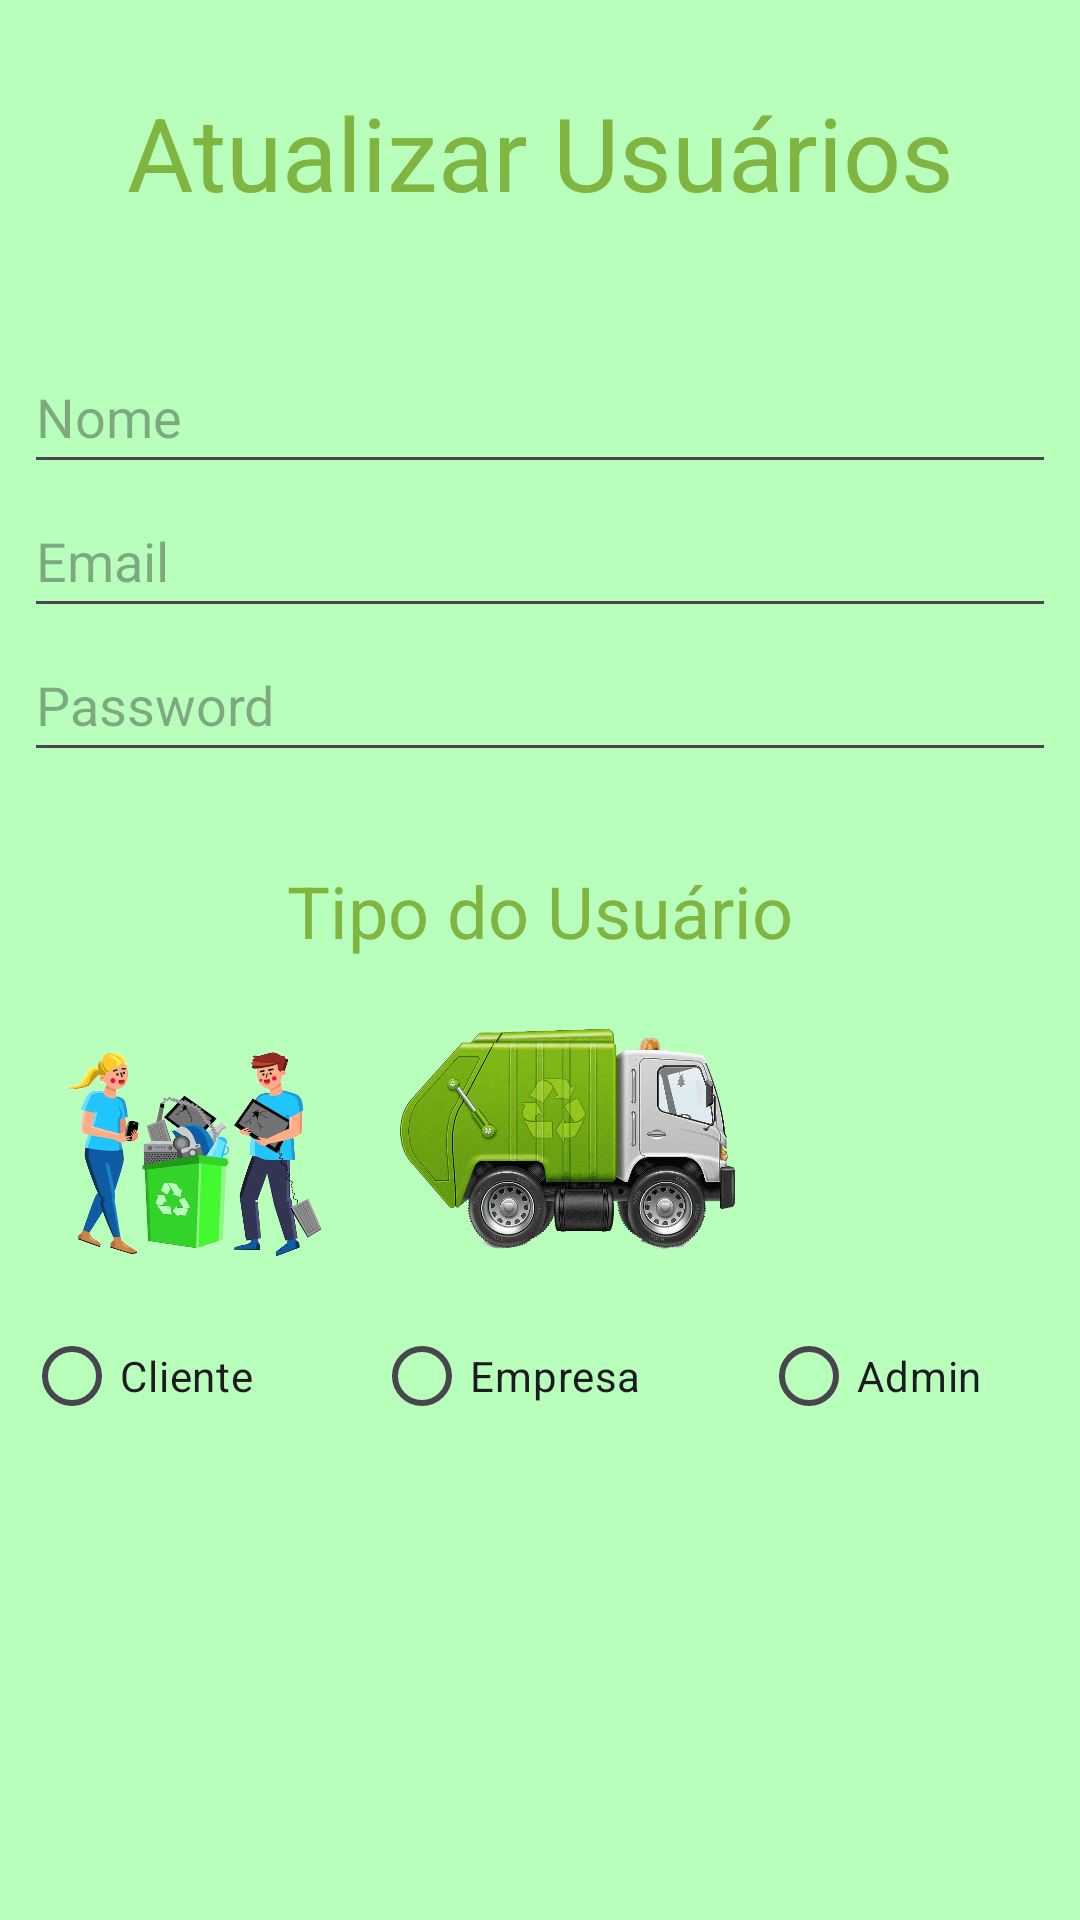

Screen size 1080×1920. Icon name, then its center in pixels as [x,y]:
pessoasreciclando: [194,1154]
trashtruck: [567,1139]
